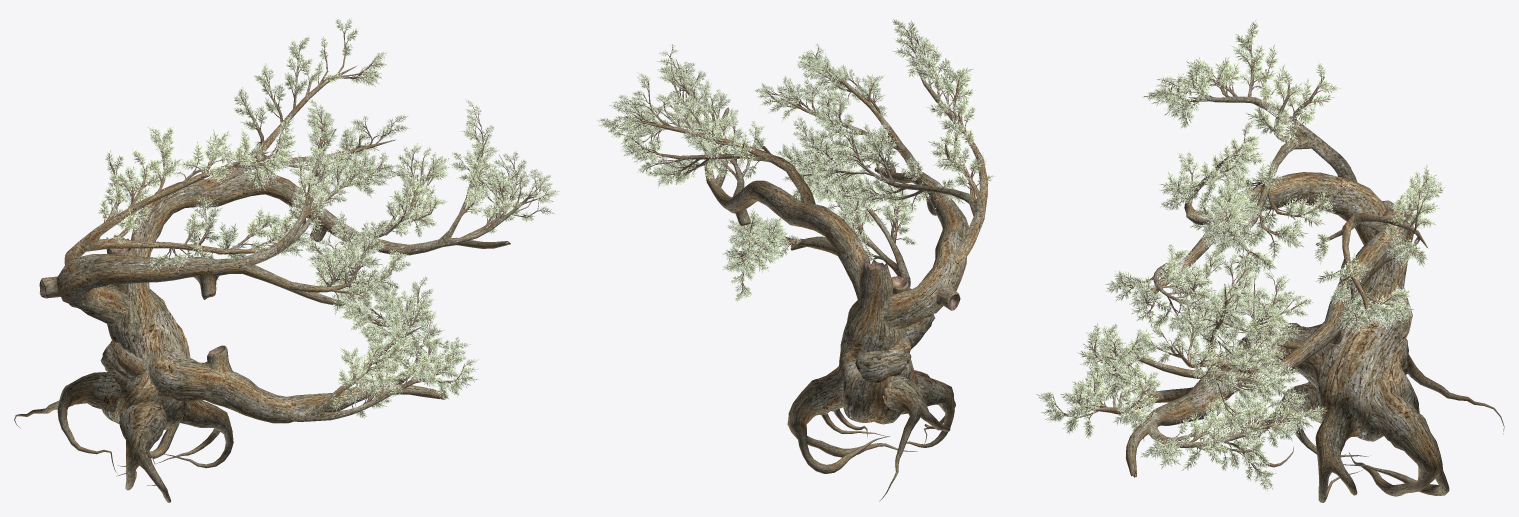
Rendered from JeffreyPine_High.fbx.
3 renders of one model, left to right at view 1: azimuth 30°, elevation 25°; view 2: azimuth 150°, elevation 25°; view 3: azimuth 270°, elevation 25°, orthographic. The views are drawn at different scales.
Parts seen in each view (by area): view 1: JeffreyPine_High_Leaves, JeffreyPine_High_Branches; view 2: JeffreyPine_High_Branches, JeffreyPine_High_Leaves, JeffreyPine_High_Caps; view 3: JeffreyPine_High_Leaves, JeffreyPine_High_Branches.
Part boxes in pixels (x1,y1,x2,y2): JeffreyPine_High_Leaves: [93, 18, 559, 420]; JeffreyPine_High_Branches: [14, 30, 547, 502]; JeffreyPine_High_Branches: [610, 30, 987, 501]; JeffreyPine_High_Leaves: [596, 17, 996, 302]; JeffreyPine_High_Caps: [683, 54, 960, 451]; JeffreyPine_High_Leaves: [1035, 19, 1446, 492]; JeffreyPine_High_Branches: [1052, 41, 1504, 502].
Size of the model in its own units: 19.6 by 16.09 by 16.89.
